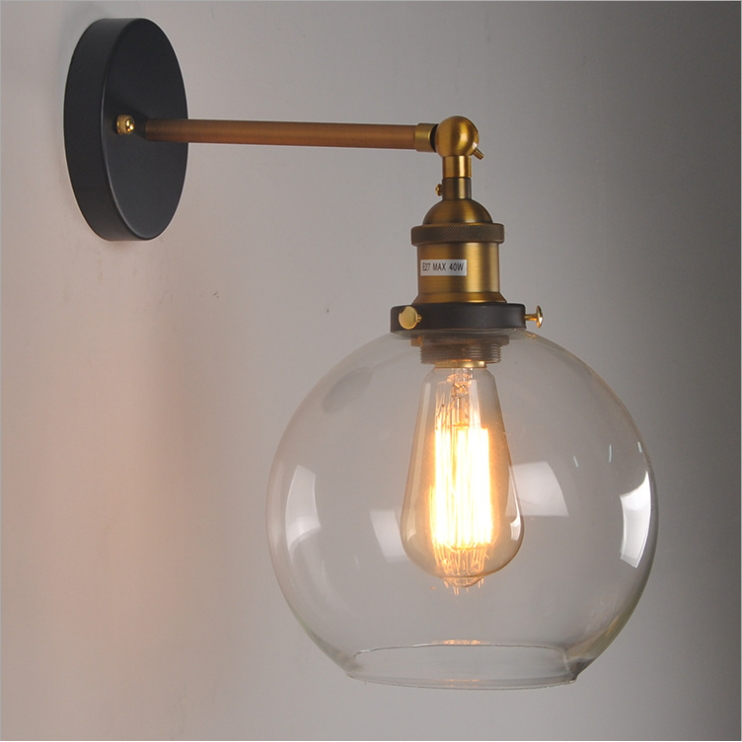Light_bulb: (246, 296, 675, 703)
